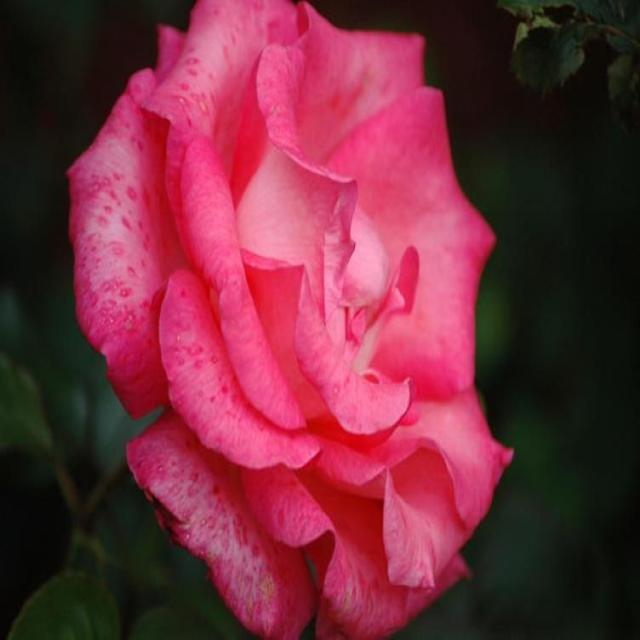rose: (51, 0, 525, 632)
